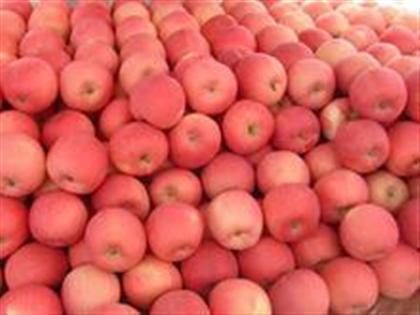apple: (46, 127, 108, 194), (198, 186, 261, 249), (83, 207, 146, 270), (257, 178, 320, 241), (142, 195, 205, 258), (311, 169, 373, 225), (339, 202, 399, 259), (319, 255, 379, 312), (28, 191, 86, 246), (1, 55, 57, 111), (267, 266, 330, 315), (126, 74, 185, 125), (367, 242, 420, 298), (1, 130, 45, 197), (349, 65, 403, 119), (335, 118, 389, 172), (220, 98, 273, 152), (169, 111, 222, 165), (253, 146, 310, 191), (201, 149, 258, 194), (60, 59, 112, 108), (208, 275, 271, 315), (237, 51, 286, 102), (185, 58, 234, 109), (287, 58, 334, 104), (273, 106, 320, 152), (93, 174, 148, 212), (145, 284, 212, 315), (381, 120, 420, 173), (148, 168, 205, 204)
